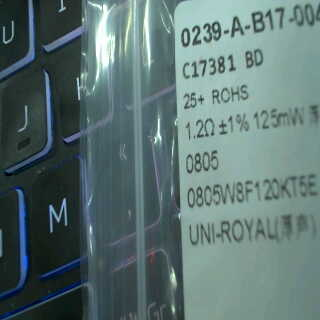1.2R: (182, 116, 219, 178)
